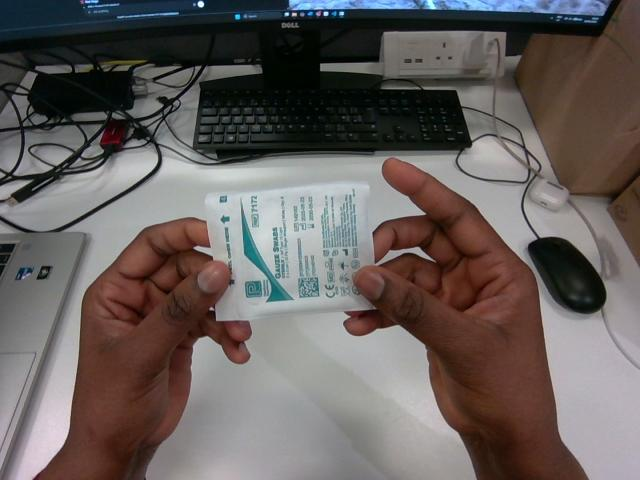gauze: (206, 182, 373, 320)
